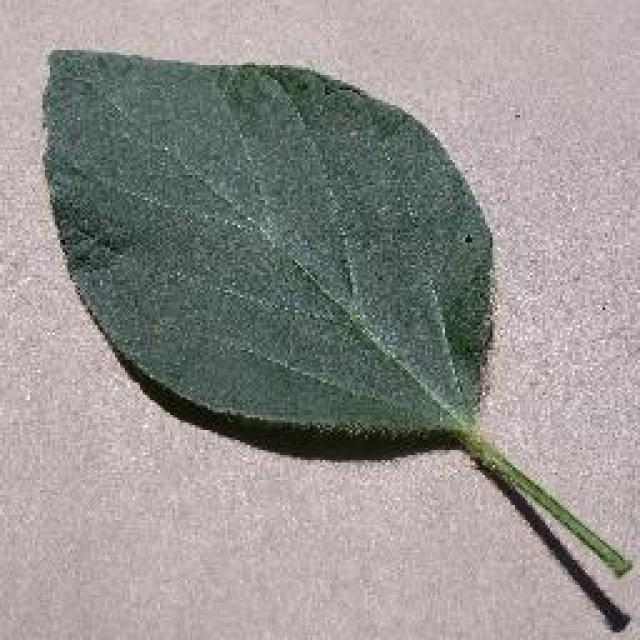Soy_healthy: (32, 28, 500, 446)
